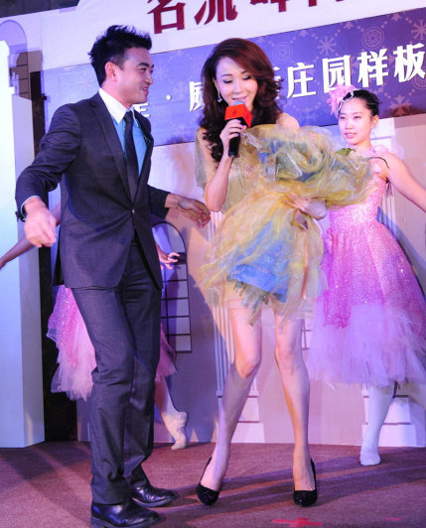face: (117, 45, 153, 103), (217, 58, 256, 110), (339, 100, 370, 142)
